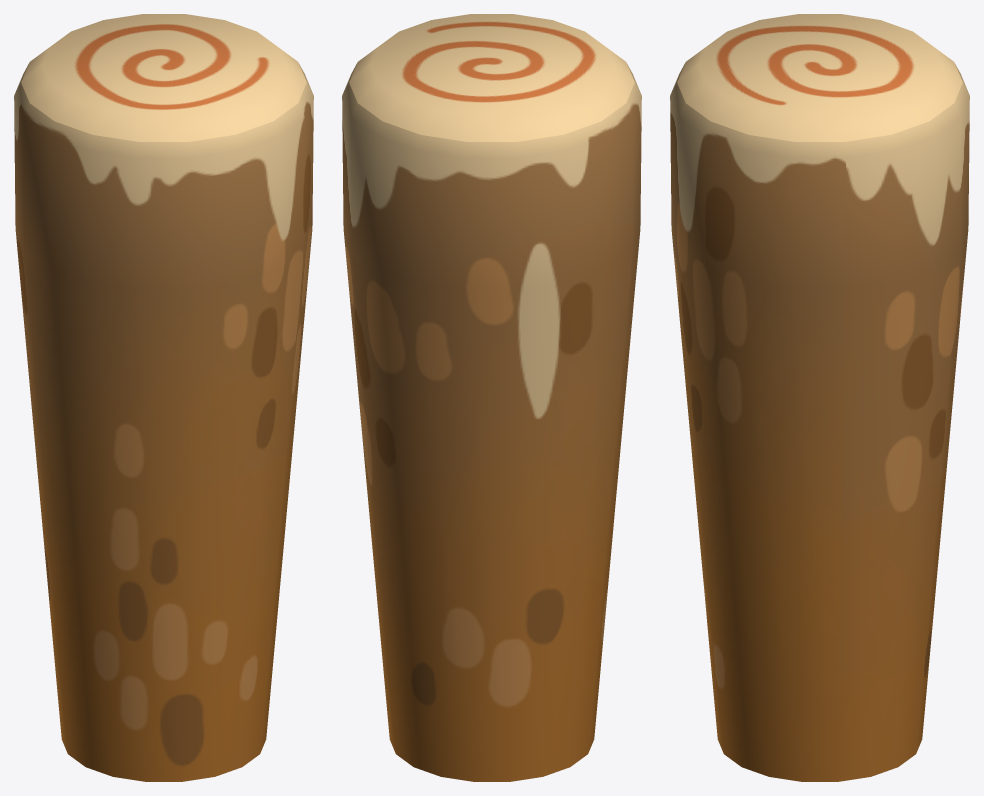
File: Prop_BridgeStick1.fbx
3 renders of one model, left to right at view 1: azimuth 30°, elevation 25°; view 2: azimuth 150°, elevation 25°; view 3: azimuth 270°, elevation 25°, orthographic.
Parts seen in each view (by area): view 1: BridgeStick1; view 2: BridgeStick1; view 3: BridgeStick1.
Part boxes in pixels (x1,y1,x2,y2): BridgeStick1: (14, 14, 313, 781); BridgeStick1: (342, 14, 641, 781); BridgeStick1: (670, 14, 969, 781).
Bounding box in the file's own units: 41.25 × 104 × 41.89.
